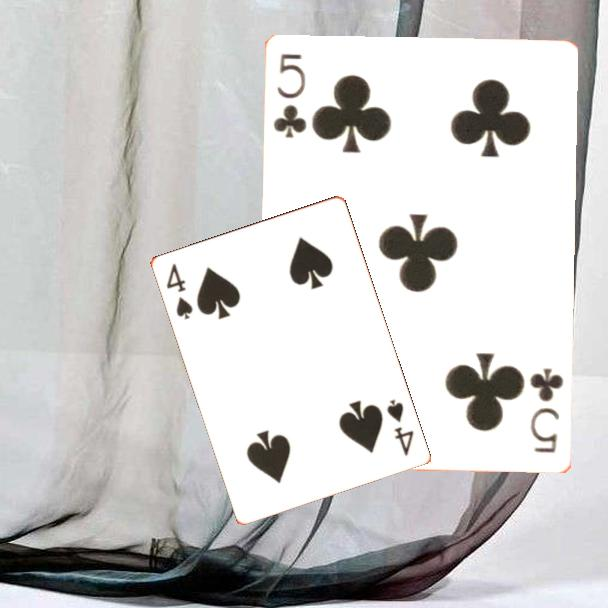c05: (527, 365, 567, 456), (271, 50, 310, 141)
s04: (383, 395, 416, 459), (162, 260, 195, 322)
